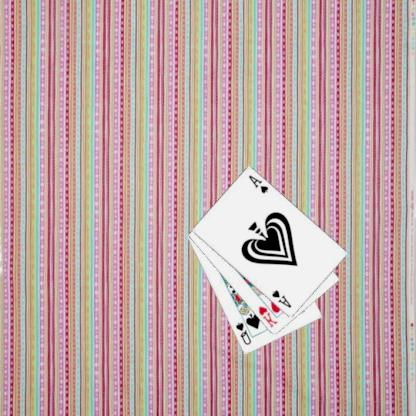AS: (247, 173, 272, 195), (271, 287, 294, 310)
KH: (258, 304, 280, 329)
QS: (234, 320, 254, 346)
